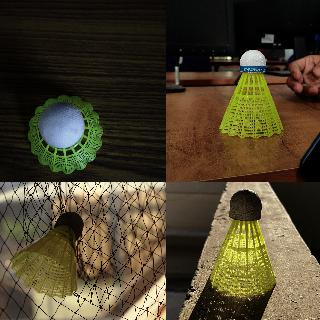shuttlecock: (210, 190, 276, 294), (11, 212, 84, 296), (27, 94, 102, 174), (219, 50, 283, 138)
